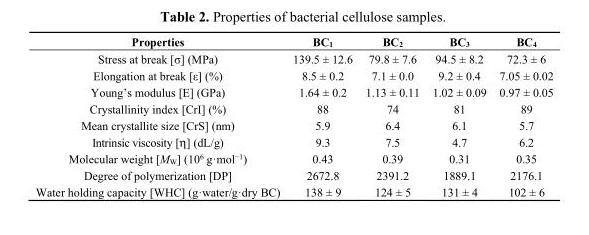table: (34, 34, 552, 198)
table column: (34, 34, 285, 198), (285, 34, 358, 198), (358, 34, 425, 198), (425, 34, 492, 198), (492, 34, 552, 198)
table column header: (34, 34, 552, 49)
table row: (34, 132, 552, 150), (34, 49, 552, 66), (34, 66, 552, 83), (34, 83, 552, 100), (34, 166, 552, 183), (34, 100, 552, 116), (34, 116, 552, 132), (34, 150, 552, 166), (34, 34, 552, 49), (34, 183, 552, 198)
